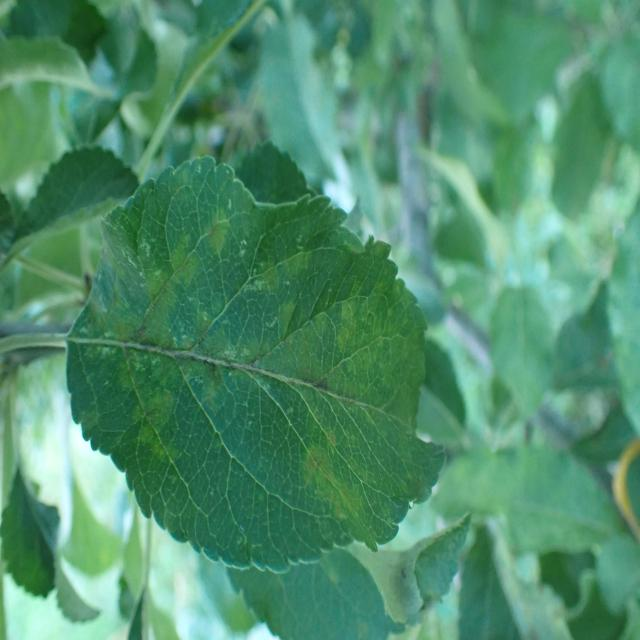scab: (43, 190, 421, 540)
